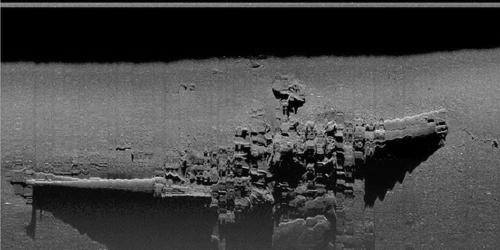ship: (22, 111, 448, 211)
